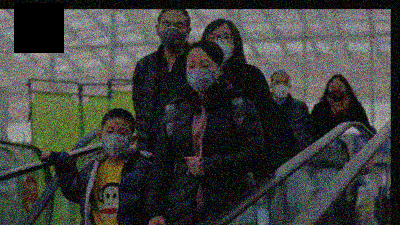with_mask: (184, 57, 221, 95), (99, 124, 132, 159), (158, 18, 189, 51), (206, 30, 236, 63), (269, 78, 290, 100), (327, 82, 347, 104)
